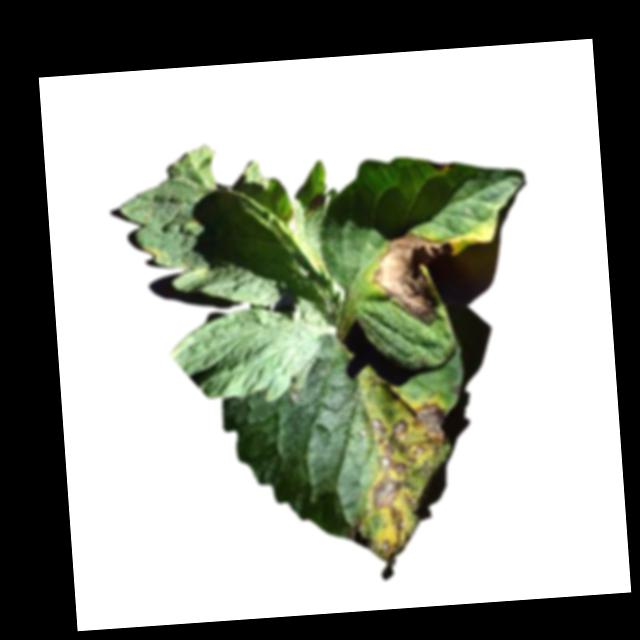Early_blight: (340, 398, 458, 567), (368, 230, 464, 331), (307, 193, 326, 215), (428, 158, 453, 173)
